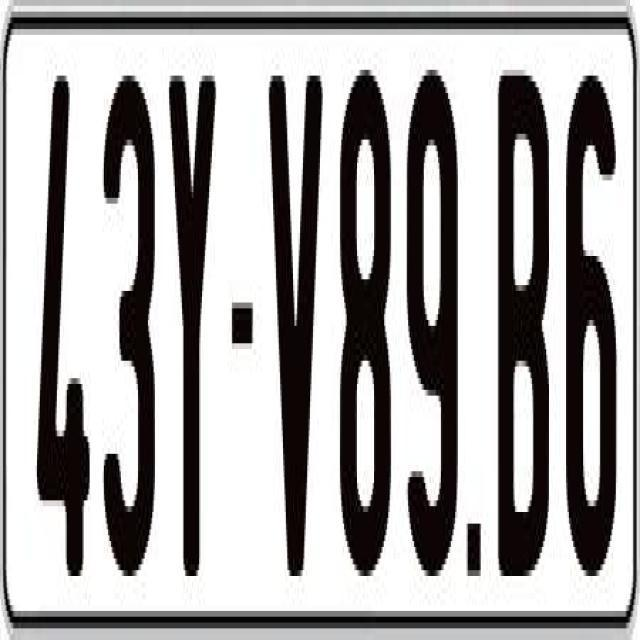3: (99, 76, 158, 576)
4: (37, 70, 90, 576)
6: (566, 63, 617, 564)
8: (340, 64, 397, 576)
9: (406, 52, 462, 582)
B: (498, 64, 550, 570)
V: (266, 76, 327, 600)
Y: (168, 58, 222, 588)
